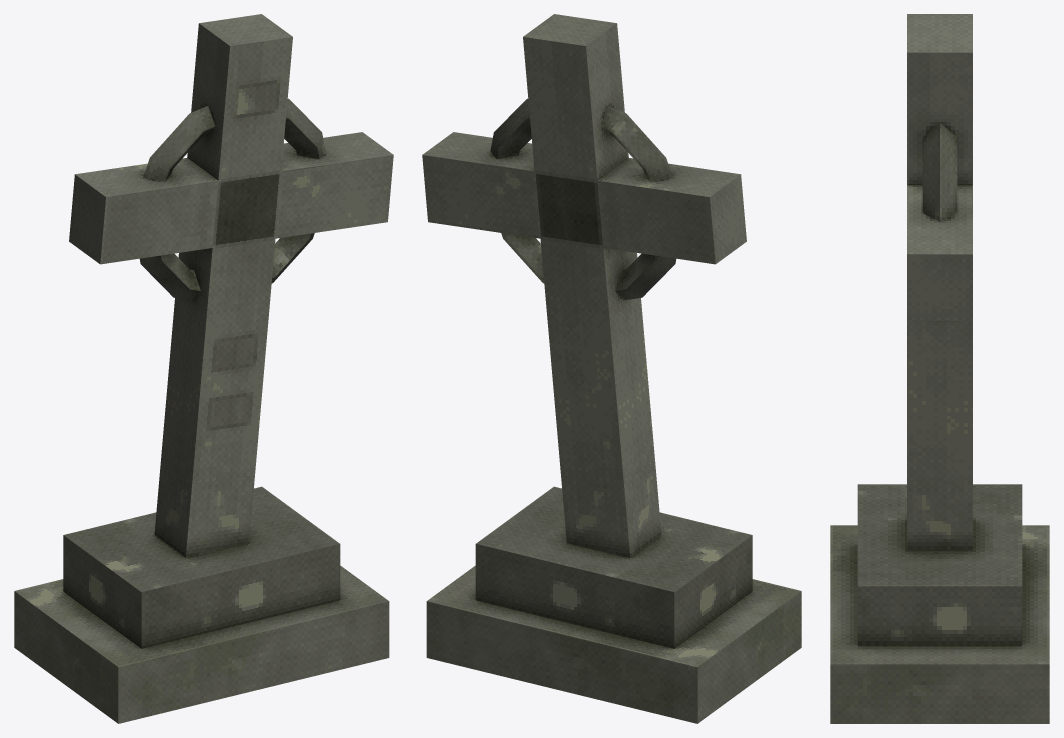
Rendered from Gravestone_Cross_01.glb.
3 renders of one model, left to right at view 1: azimuth 30°, elevation 25°; view 2: azimuth 150°, elevation 25°; view 3: azimuth 270°, elevation 25°, orthographic. The views are drawn at different scales.
Visible parts, largest first — view 1: Gravestone_Cross_01; view 2: Gravestone_Cross_01; view 3: Gravestone_Cross_01.
Part boxes in pixels (x1,y1,x2,y2): Gravestone_Cross_01: (14, 14, 393, 723); Gravestone_Cross_01: (422, 14, 801, 723); Gravestone_Cross_01: (830, 14, 1049, 723).
Size of the model in its own units: 0.6907 by 1.3 by 0.4.
1 material, 1 textured.
